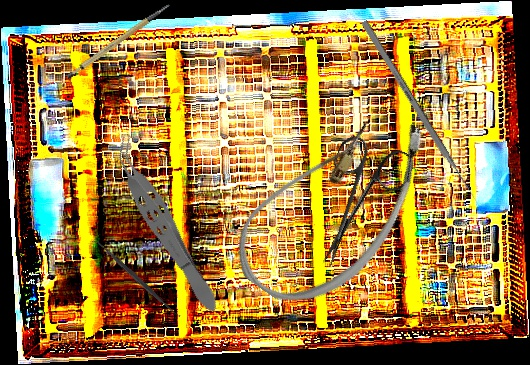Cannula: (218, 77, 449, 332)
Iris Scissors: (293, 127, 418, 282)
Pusher: (360, 19, 481, 207)
Scalpel Handle: (58, 3, 180, 81)
Spatula Surgical: (90, 234, 183, 323)
Tissue Forceps: (101, 131, 229, 319)
